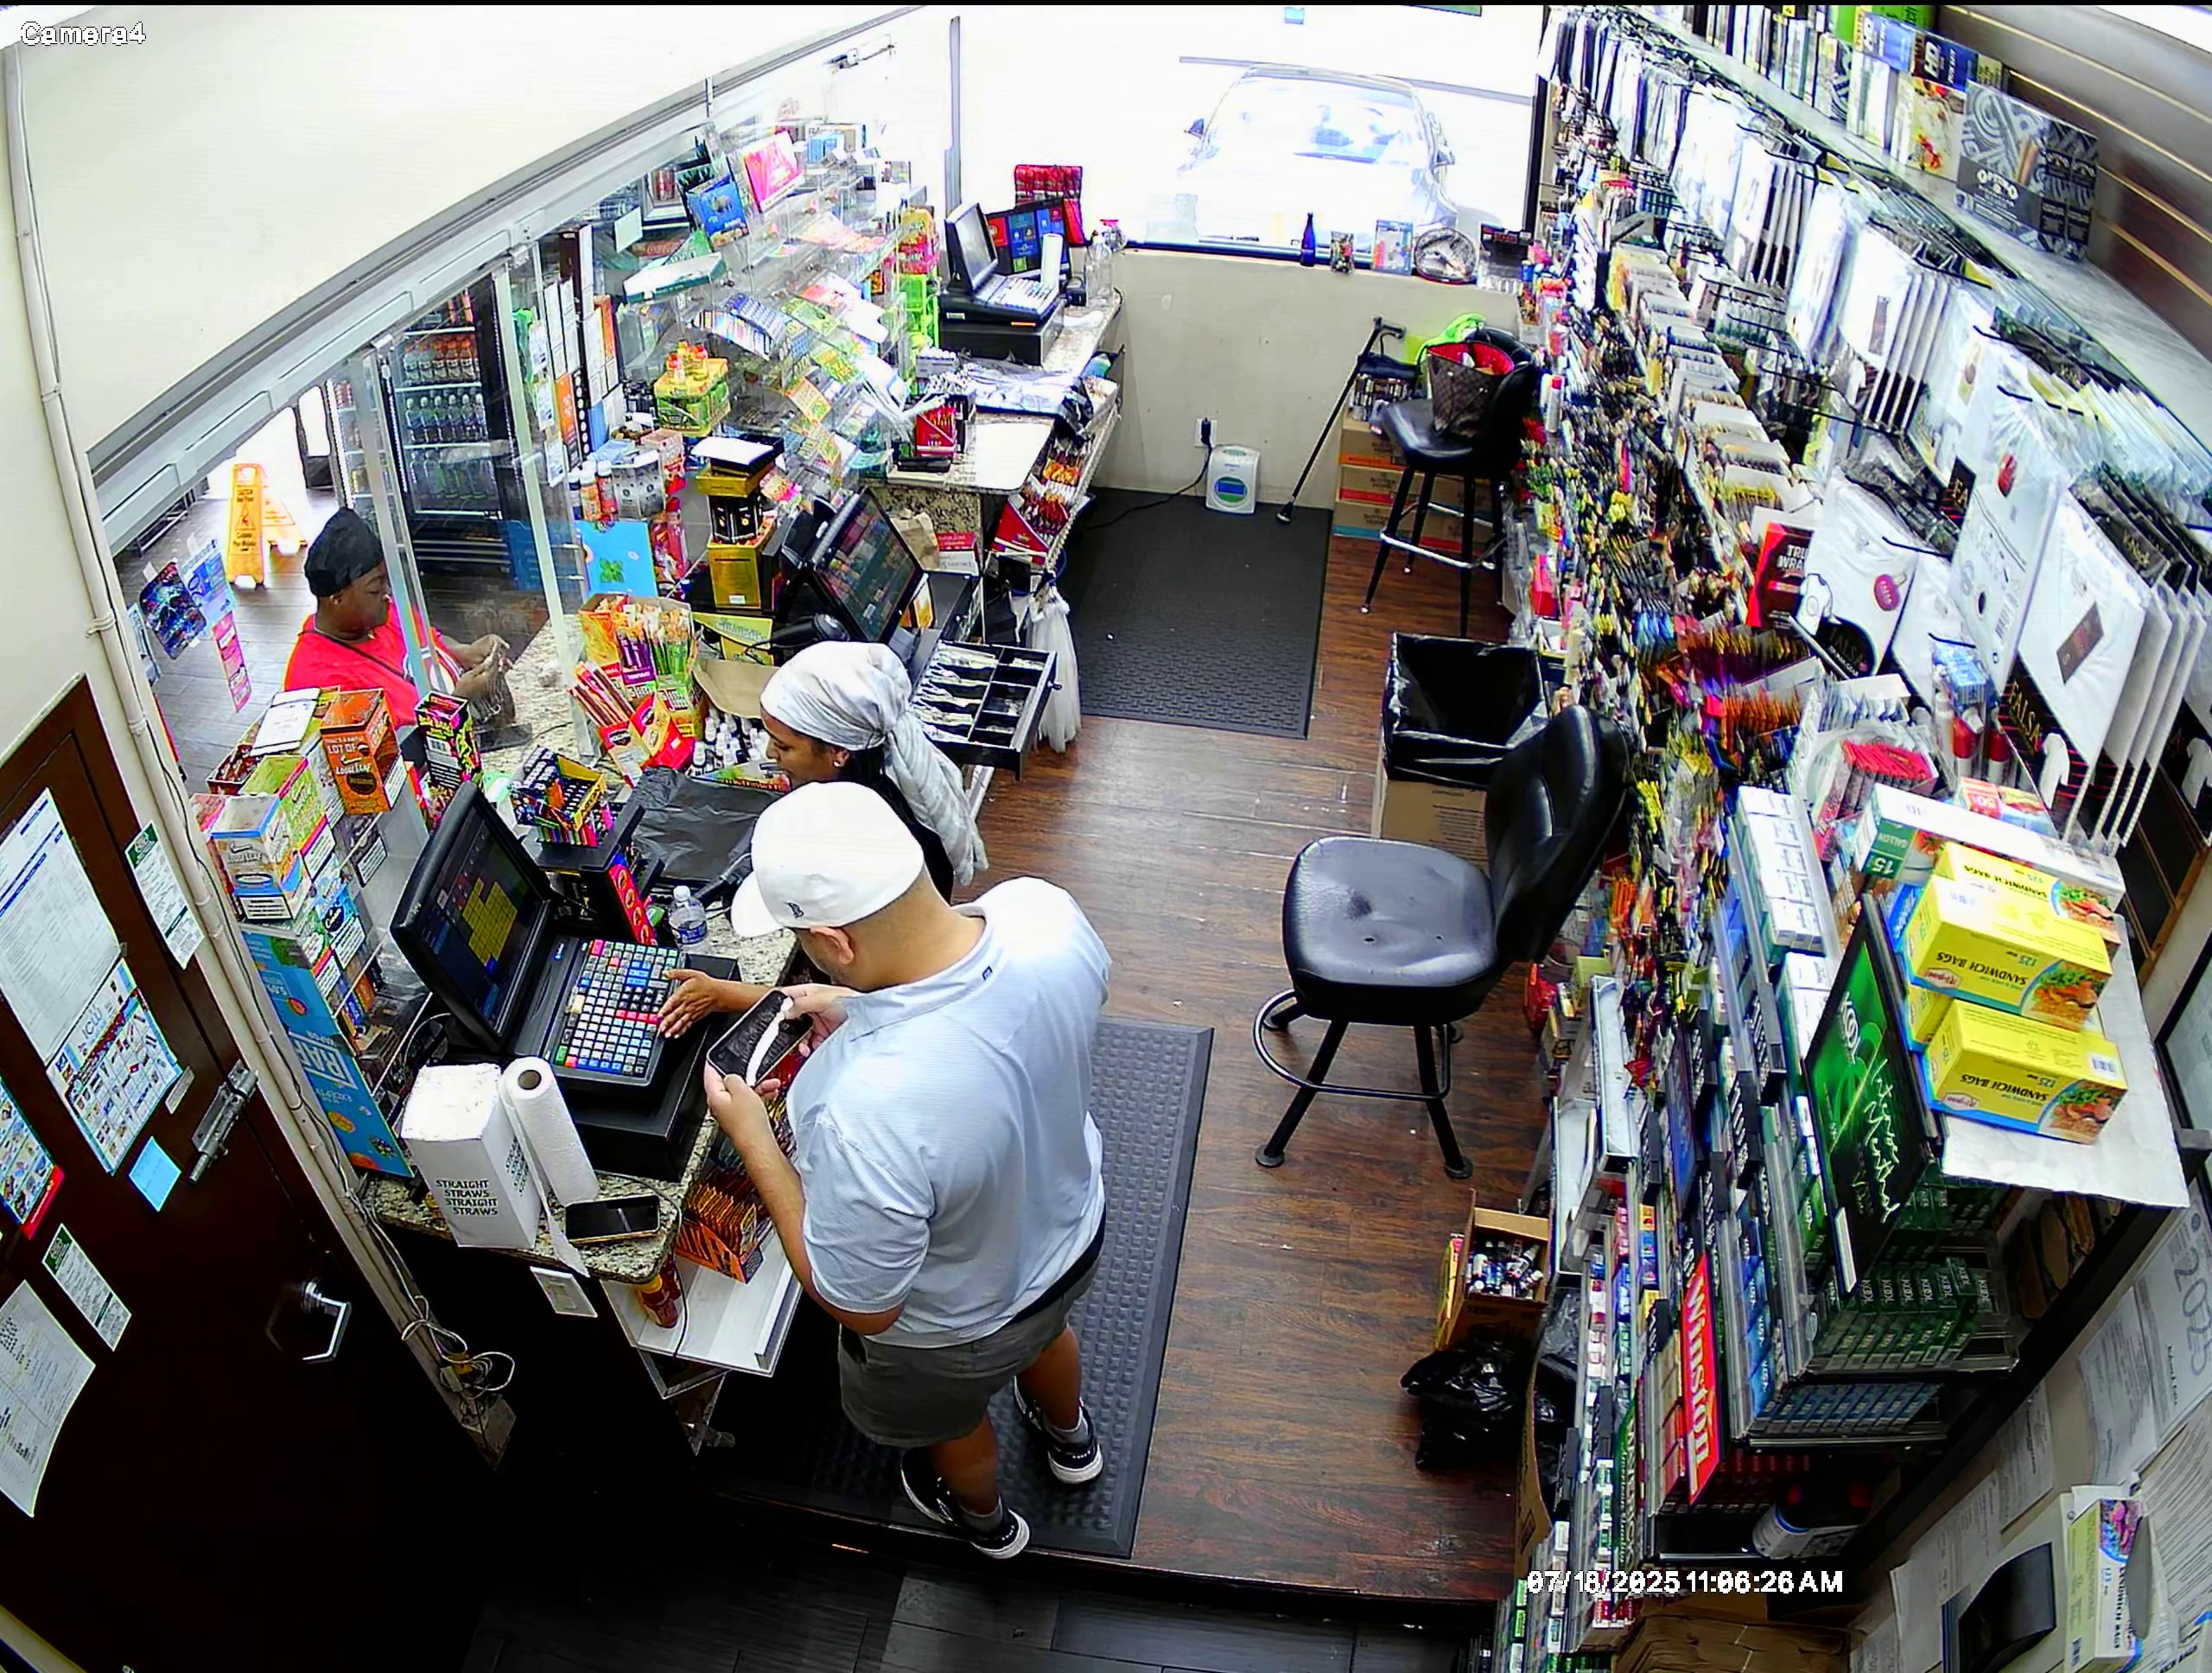phone: (696, 982, 824, 1095)
